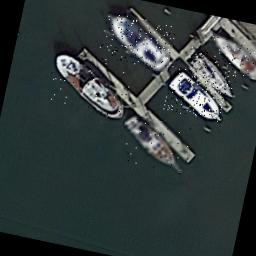boat: (43, 50, 133, 120), (96, 11, 176, 73), (116, 114, 192, 174), (162, 66, 228, 122), (182, 46, 242, 97), (205, 32, 256, 79)
